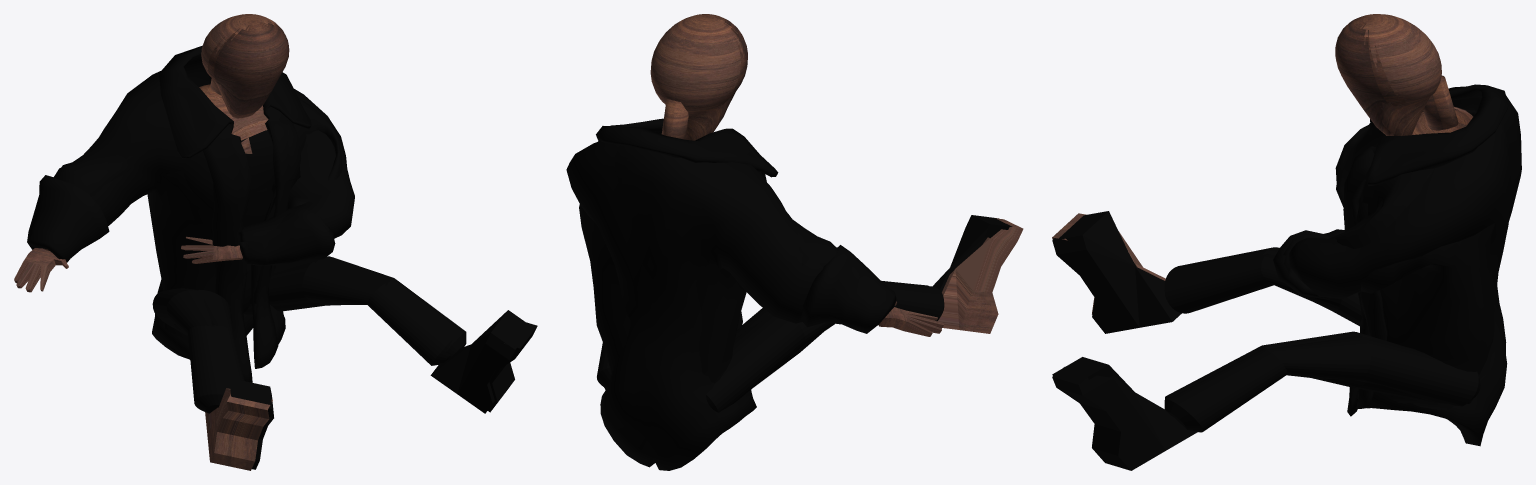
File: TrenchCoat.glb
The picture shows the model from 3 angles, left to right: view 1: azimuth 30°, elevation 25°; view 2: azimuth 150°, elevation 25°; view 3: azimuth 270°, elevation 25°; orthographic projection. The views are drawn at different scales.
Visible parts, largest first — view 1: Cube; view 2: Cube; view 3: Cube.
Part boxes in pixels (bbox=[...]): Cube: bbox=[14, 14, 537, 470]; Cube: bbox=[566, 14, 1023, 470]; Cube: bbox=[1052, 14, 1521, 470].
Bounding box in the file's own units: 11.72 × 10.97 × 11.12.
2 materials, 1 textured.
